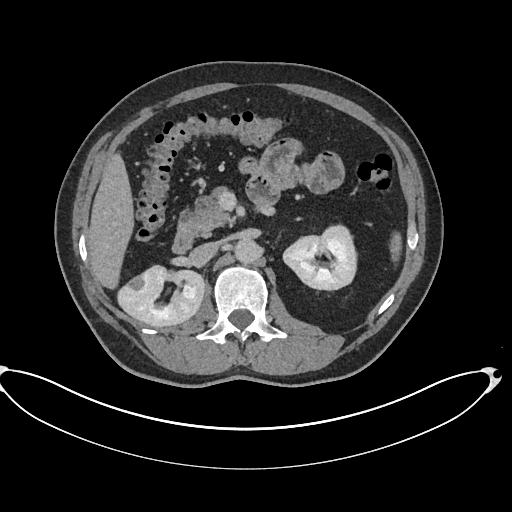Lesion: (126, 274, 148, 292)
